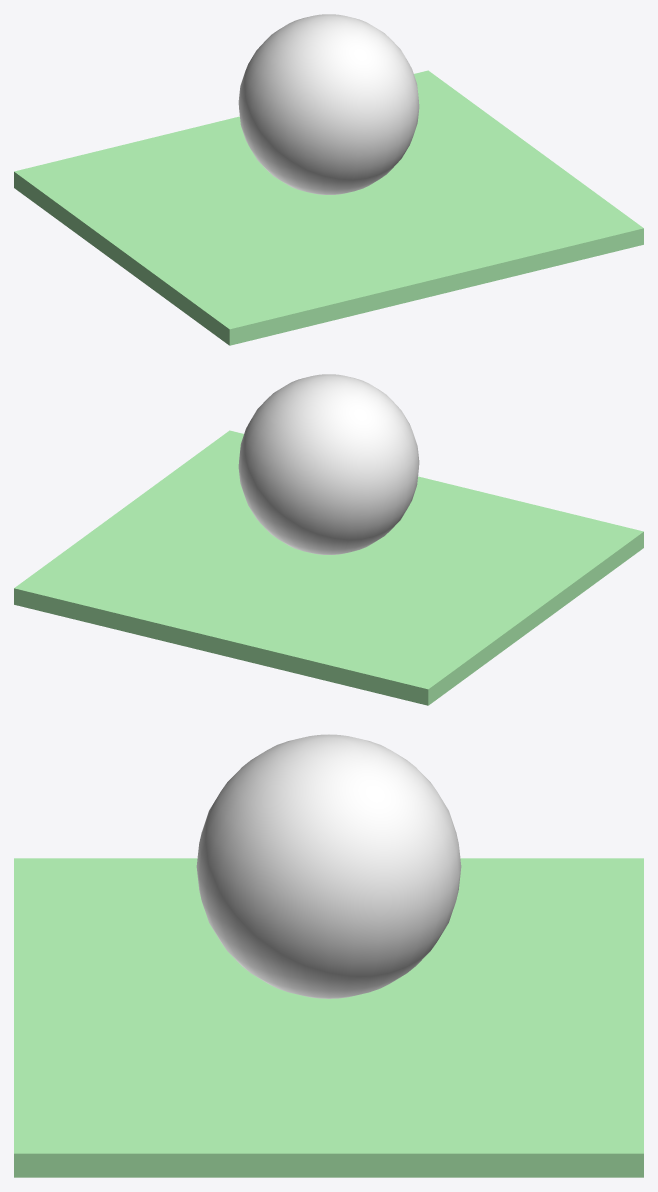
File: DisplayGlass.gltf
3 renders of one model, top to bottom at view 1: azimuth 30°, elevation 25°; view 2: azimuth 150°, elevation 25°; view 3: azimuth 270°, elevation 25°, orthographic. The views are drawn at different scales.
Visible parts, largest first — view 1: Box, Sphere; view 2: Box, Sphere; view 3: Box, Sphere.
Part boxes in pixels (x1,y1,x2,y2): Box: [14, 70, 643, 345]; Sphere: [238, 14, 419, 194]; Box: [14, 430, 643, 705]; Sphere: [238, 374, 419, 554]; Box: [14, 858, 643, 1177]; Sphere: [196, 734, 461, 998].
Size of the model in its own units: 5.28 by 2.36 by 4.76.
